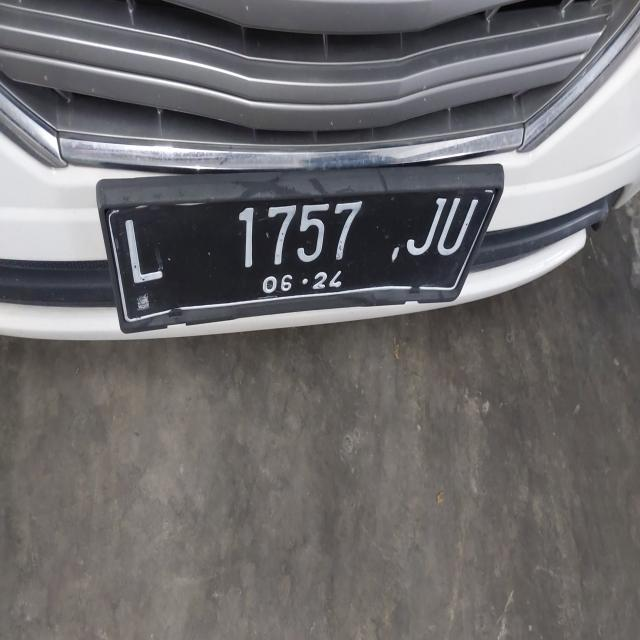1: (235, 201, 258, 268)
5: (296, 191, 334, 275)
7: (260, 196, 298, 270), (334, 199, 366, 264)
J: (406, 194, 444, 260)
L: (118, 206, 170, 297)
U: (442, 194, 478, 269)
